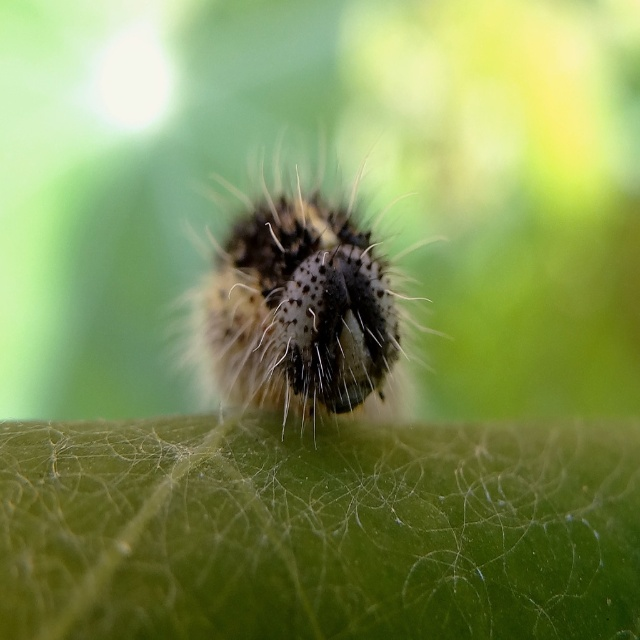Caterpillar: (156, 98, 450, 450)
